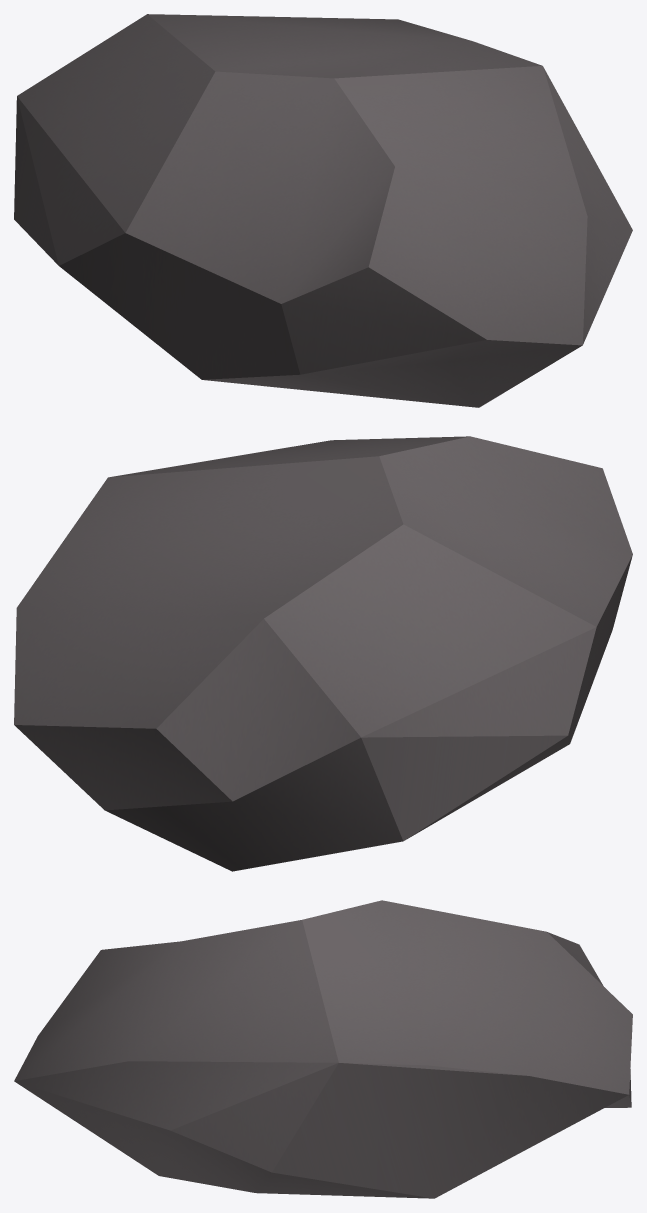
Rendered from Rocks10.fbx.
3 views of the same model, one above another, from view 1: azimuth 30°, elevation 25°; view 2: azimuth 150°, elevation 25°; view 3: azimuth 270°, elevation 25° (orthographic). The views are drawn at different scales.
Parts seen in each view (by area): view 1: Rock.010; view 2: Rock.010; view 3: Rock.010.
Boxes of the visible parts, <box> form: Rock.010: <box>14,14,632,407</box>; Rock.010: <box>14,436,632,871</box>; Rock.010: <box>14,900,632,1198</box>.
Bounding box in the file's own units: 0.2698 × 0.1514 × 0.365.
